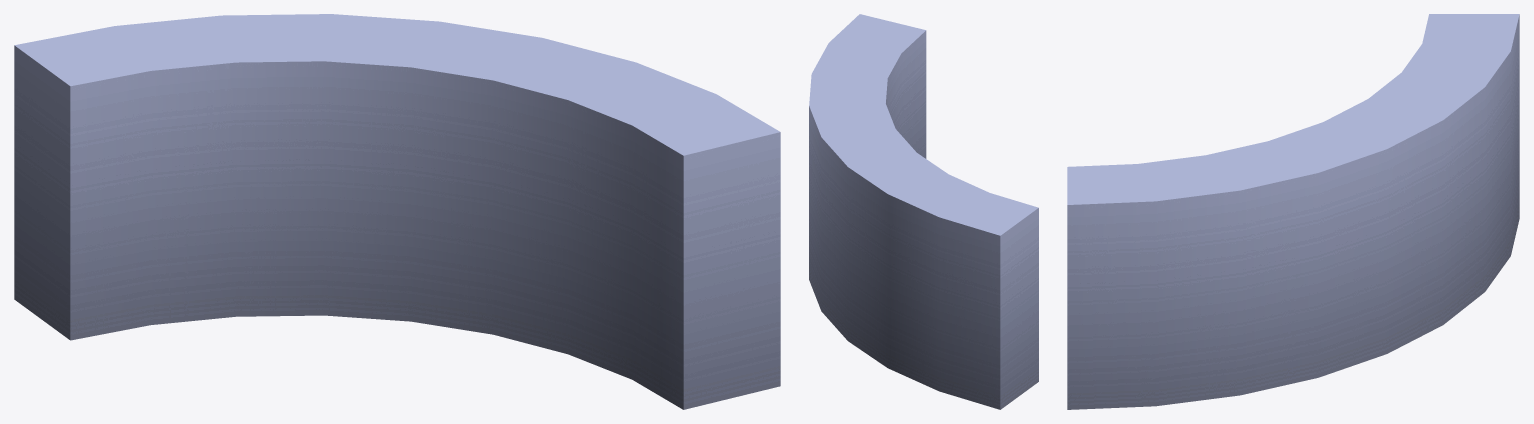
Rendered from wall-round-low.glb.
3 views of the same model, side by side, from view 1: azimuth 30°, elevation 25°; view 2: azimuth 150°, elevation 25°; view 3: azimuth 270°, elevation 25° (orthographic). The views are drawn at different scales.
Visible parts, largest first — view 1: wall-round-low; view 2: wall-round-low; view 3: wall-round-low.
Boxes of the visible parts, left/top/right/bottom form: wall-round-low: left=14, top=14, right=780, bottom=409; wall-round-low: left=809, top=14, right=1038, bottom=409; wall-round-low: left=1067, top=14, right=1519, bottom=409.
Size of the model in its own units: 1 by 0.5 by 1.
1 material, 1 textured.
